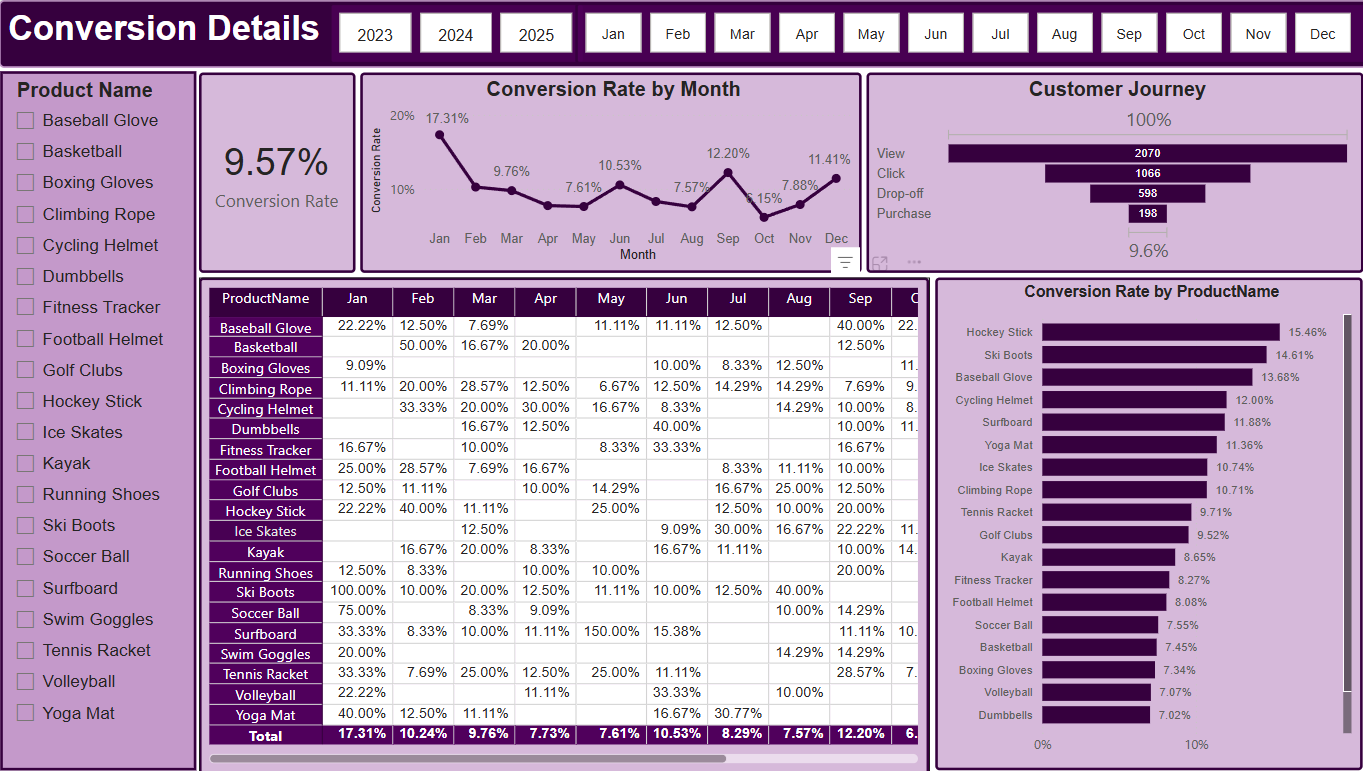

What the dashboard file says about the page in this screenshot:
{"tool":"powerbi","page":{"name":"Conversion Details","canvas":[1280,720],"ordinal":1},"visuals":[{"type":"textbox","box":[0,0,1280,62.9],"z":0},{"type":"card","fields":{"Values":["_calculations.Conversion Rate"]},"box":[186.6,67.2,145.5,186.6],"z":1000},{"type":"slicer","fields":{"Values":["dim_products.ProductName"]},"box":[1.4,65.9,182.5,650.4],"z":2000},{"type":"advancedSlicerVisual","fields":{"Values":["Calendar.Year"]},"box":[307.4,2.7,238.8,57.6],"z":3000},{"type":"advancedSlicerVisual","fields":{"Values":["Calendar.MonthNameShort"]},"box":[536.5,2.7,743.7,57.6],"z":4000},{"type":"lineChart","fields":{"Y":["_calculations.Conversion Rate"],"Category":["Calendar.MonthNameShort"]},"box":[336.2,67.2,466.6,186.6],"z":5000},{"type":"clusteredBarChart","fields":{"Category":["dim_products.ProductName"],"Y":["_calculations.Conversion Rate"]},"box":[871.4,258,397.9,458.3],"z":6000},{"type":"pivotTable","fields":{"Rows":["dim_products.ProductName"],"Columns":["Calendar.MonthNameShort"],"Values":["_calculations.Conversion Rate"]},"box":[186.6,258,679.2,462.4],"z":7000},{"type":"funnel","title":"Customer Journey","fields":{"Y":["_calculations.Number of Customer Journeys"],"Category":["fact_customer_journey.Action"]},"box":[806.9,67.2,462.4,186.6],"z":8000}]}

Visuals, with their boxes in screenshot pixels (x1, y1, x2, y2), scaled from the page's 1280x720 canvas onto the 1363x771 screenshot:
textbox: bbox=[0, 0, 1362, 67]
card - _calculations.Conversion Rate: bbox=[199, 72, 354, 272]
slicer - dim_products.ProductName: bbox=[1, 71, 196, 767]
advancedSlicerVisual - Calendar.Year: bbox=[327, 3, 582, 65]
advancedSlicerVisual - Calendar.MonthNameShort: bbox=[571, 3, 1362, 65]
lineChart - _calculations.Conversion Rate x Calendar.MonthNameShort: bbox=[358, 72, 855, 272]
clusteredBarChart - dim_products.ProductName x _calculations.Conversion Rate: bbox=[928, 276, 1352, 767]
pivotTable - dim_products.ProductName x Calendar.MonthNameShort: bbox=[199, 276, 922, 770]
"Customer Journey" funnel: bbox=[859, 72, 1352, 272]
